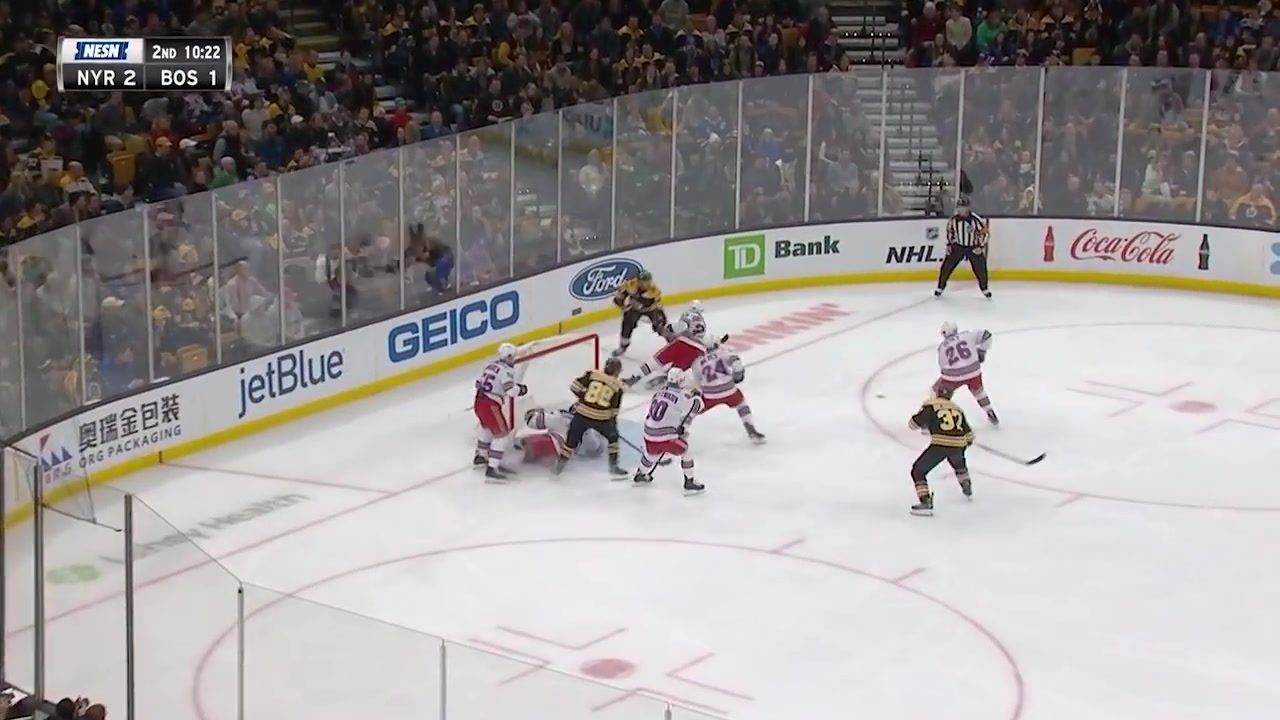Geico: (381, 284, 529, 366)
